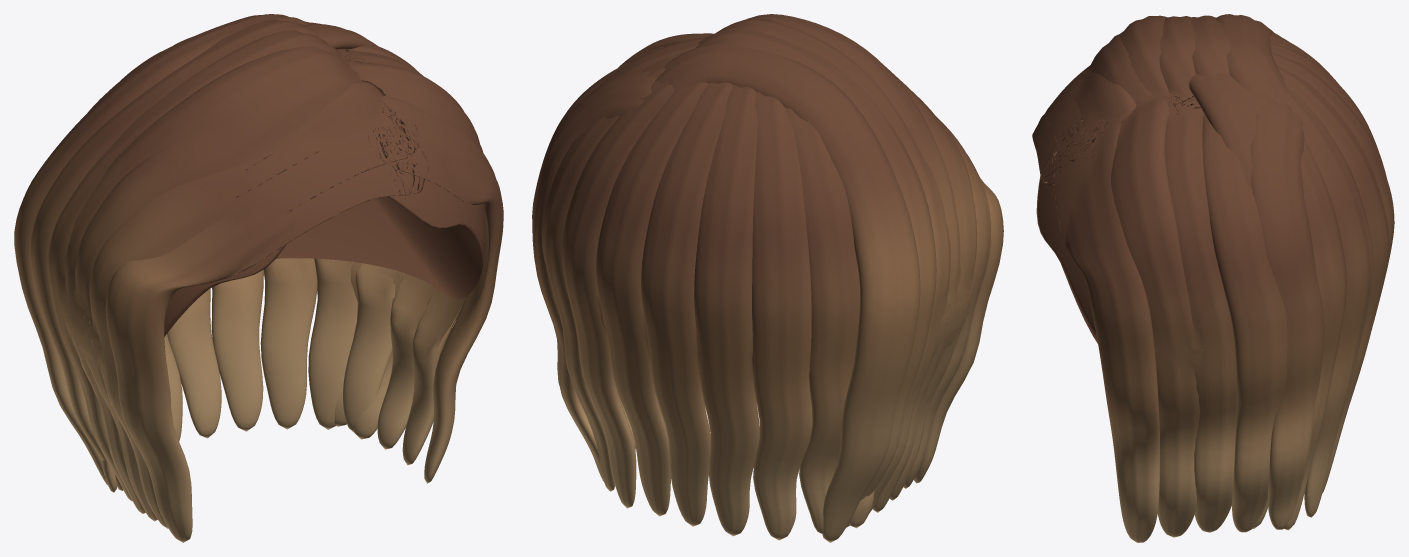
File: Ombre-0aad4aa9bf81253-hair.glb
3 renders of one model, left to right at view 1: azimuth 30°, elevation 25°; view 2: azimuth 150°, elevation 25°; view 3: azimuth 270°, elevation 25°, orthographic. The views are drawn at different scales.
Parts seen in each view (by area): view 1: 226 hair / Hair / sculpted 0.001, 226 hair / Hair / sculpted 1.002, 226 hair / Hair / sculpted 2.001, 226 hair / Hair / sculpted 1.001; view 2: 226 hair / Hair / sculpted 0.001, 226 hair / Hair / sculpted 2.001, 226 hair / Hair / sculpted 1.002; view 3: 226 hair / Hair / sculpted 1.002, 226 hair / Hair / sculpted 2.001, 226 hair / Hair / sculpted 0.001, 226 hair / Hair / sculpted 1.001.
Part boxes in pixels (left/top/right/bottom): 226 hair / Hair / sculpted 0.001: left=14, top=14, right=435, bottom=542; 226 hair / Hair / sculpted 1.002: left=48, top=24, right=503, bottom=528; 226 hair / Hair / sculpted 2.001: left=30, top=19, right=486, bottom=521; 226 hair / Hair / sculpted 1.001: left=89, top=179, right=484, bottom=373; 226 hair / Hair / sculpted 0.001: left=561, top=14, right=1003, bottom=542; 226 hair / Hair / sculpted 2.001: left=532, top=28, right=977, bottom=533; 226 hair / Hair / sculpted 1.002: left=532, top=18, right=990, bottom=540; 226 hair / Hair / sculpted 1.002: left=1045, top=16, right=1389, bottom=542; 226 hair / Hair / sculpted 2.001: left=1068, top=15, right=1394, bottom=537; 226 hair / Hair / sculpted 0.001: left=1032, top=14, right=1386, bottom=532; 226 hair / Hair / sculpted 1.001: left=1036, top=176, right=1097, bottom=343.
Size of the model in its own units: 1.02 by 1.11 by 0.8091.
4 materials, 4 textured.
